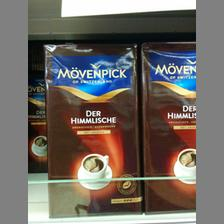Kaffee: (41, 40, 142, 216), (140, 40, 196, 216)
